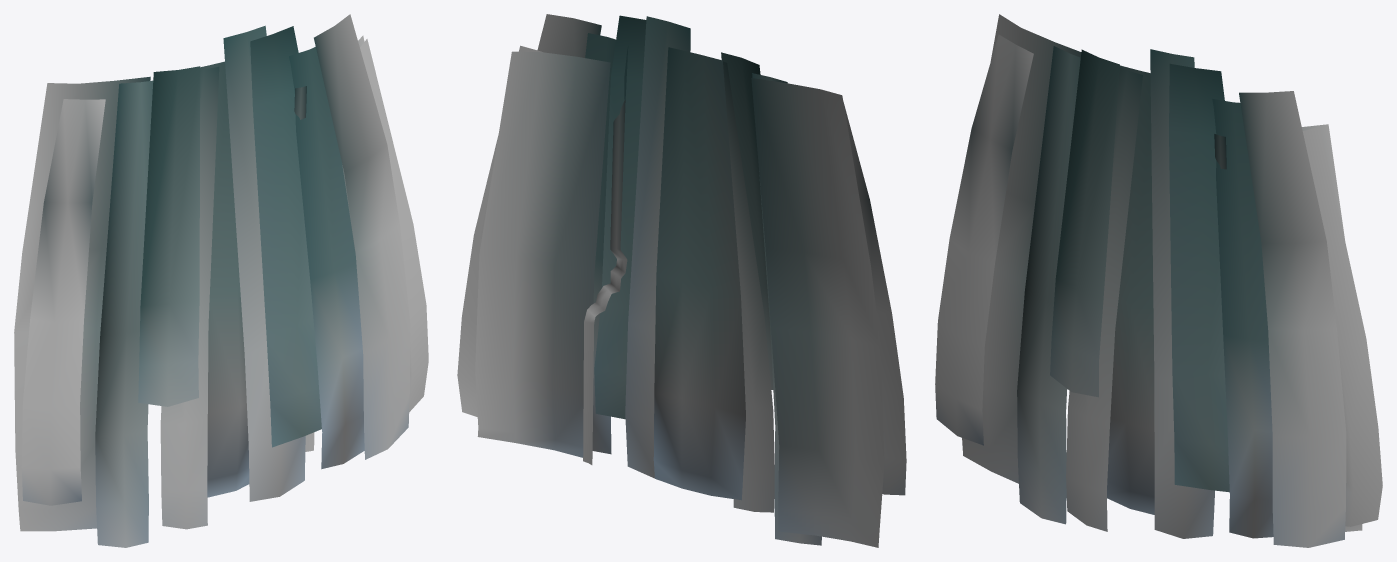
The model's file is WaterFall_V1.fbx.
3 renders of one model, left to right at view 1: azimuth 30°, elevation 25°; view 2: azimuth 150°, elevation 25°; view 3: azimuth 330°, elevation 25°, orthographic. The views are drawn at different scales.
Parts seen in each view (by area): view 1: WaterFall_V1; view 2: WaterFall_V1; view 3: WaterFall_V1.
Boxes of the visible parts, box(x1,y1,x2,y2) form: WaterFall_V1: box(14, 14, 428, 547); WaterFall_V1: box(457, 14, 906, 547); WaterFall_V1: box(935, 14, 1382, 547).
Bounding box in the file's own units: 2270 × 2484 × 285.
